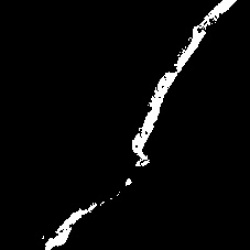crack: (132, 1, 234, 167), (45, 203, 97, 249)
pinhole: (122, 175, 132, 186)
